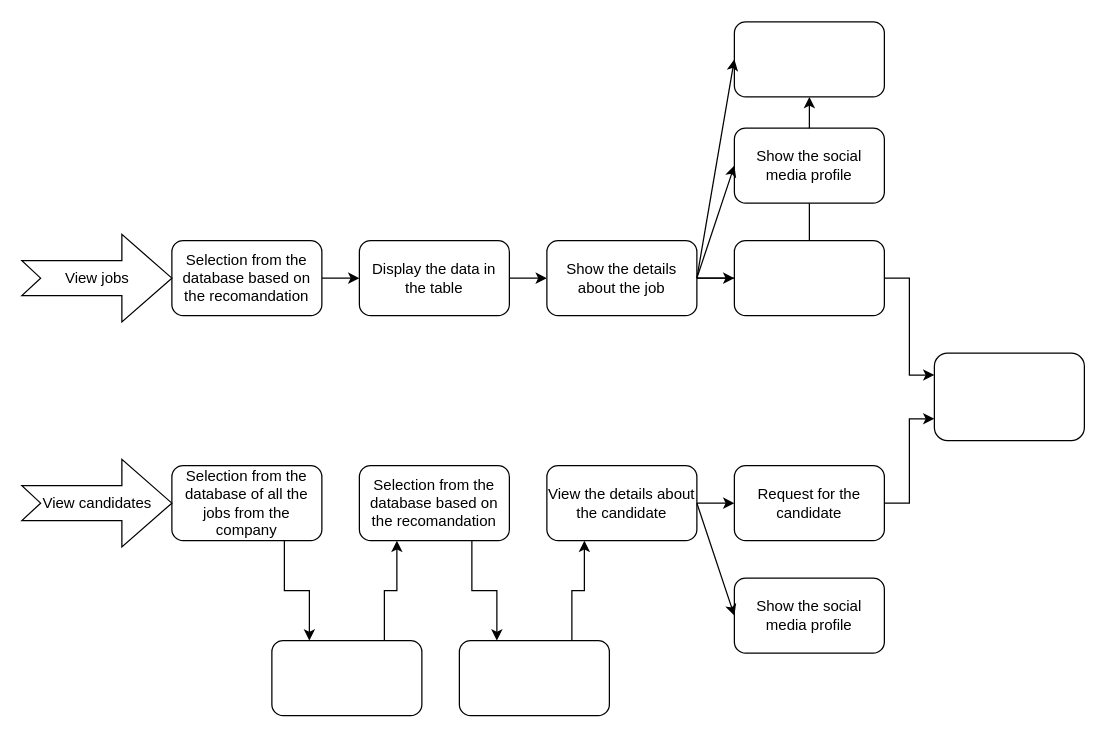
This 1106x738 diagram has some shape labels left out. Here are the shapes that lost their labels. From the top down, the centre of each, then its label:
At pixel 808 59: "Show the location on map".
At pixel 808 277: "Apply for the job".
At pixel 1008 396: "MATCHING sends mails to both of them for establishing an interview".
At pixel 346 677: "Display jobs table".
At pixel 533 677: "Display the candidates for the job".
